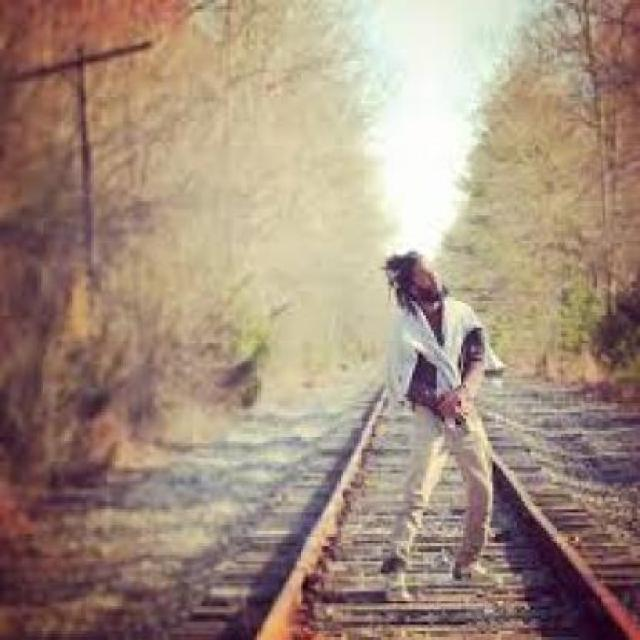danger: (368, 242, 498, 608)
rail: (169, 355, 630, 640)
